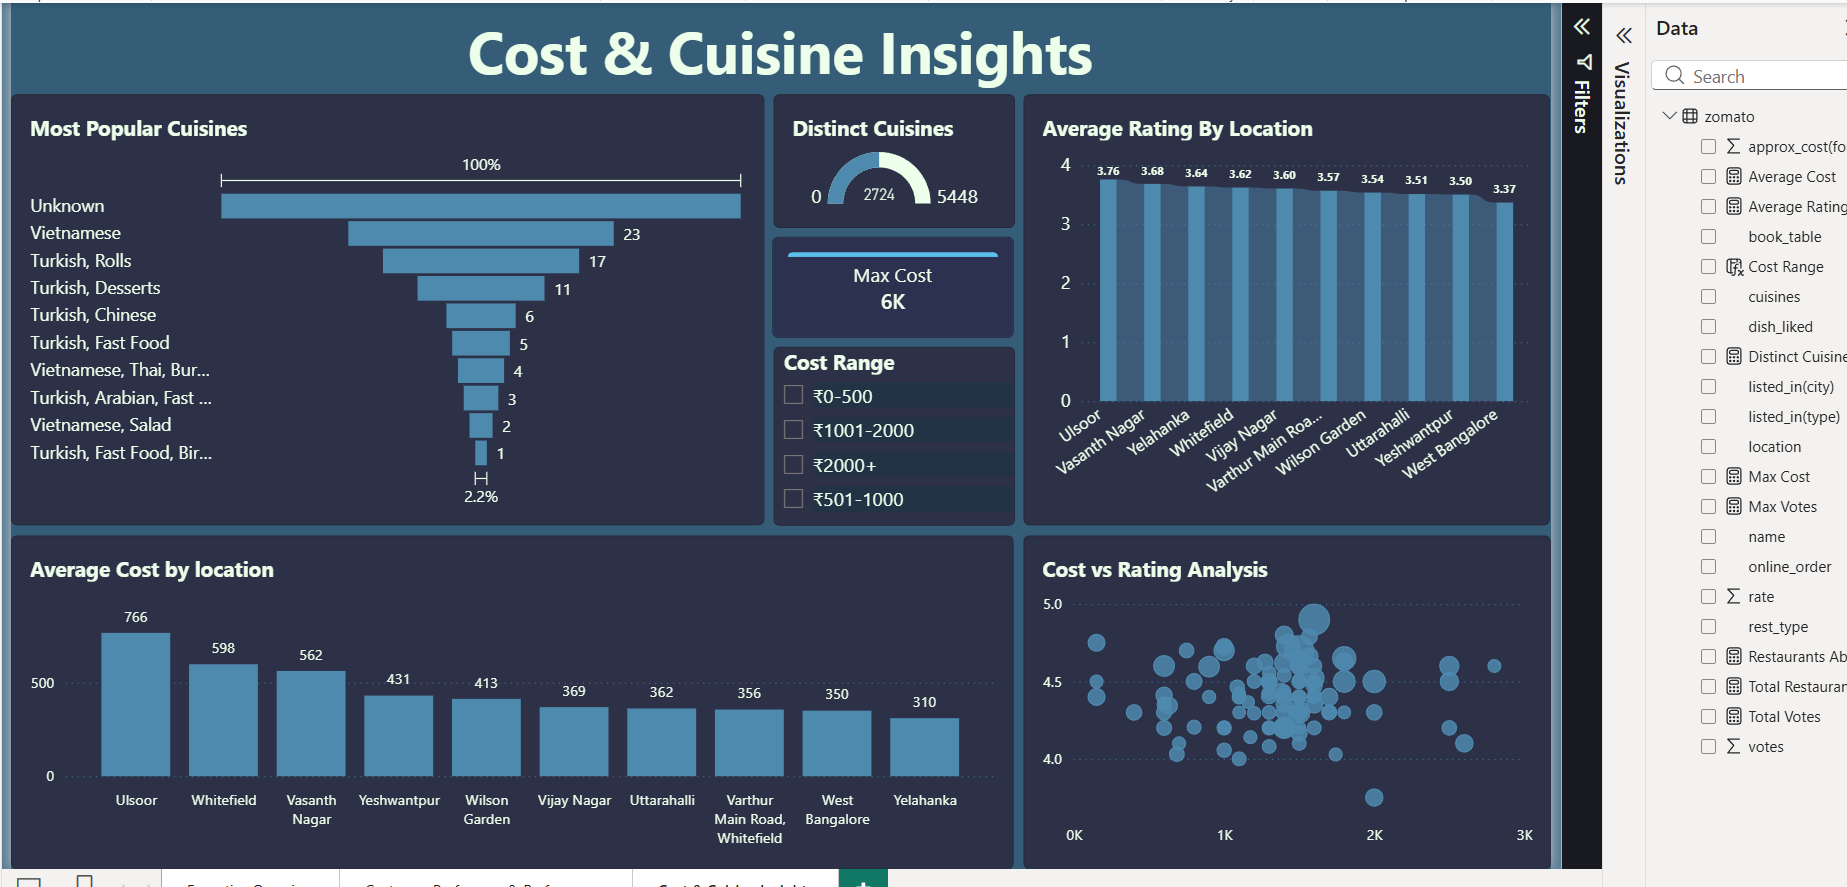

Layout of this report page (visuals, bound fields, positions):
{"tool":"powerbi","page":{"name":"Cost & Cuisine Insights","canvas":[1280,720],"ordinal":2},"visuals":[{"type":"cardVisual","fields":{"Data":["zomato.Max Cost"]},"box":[632.9,194.3,200.6,84.2],"z":0},{"type":"clusteredColumnChart","fields":{"Y":["zomato.Average Cost"],"Category":["zomato.location"]},"box":[0,442.7,833.5,277.5],"z":1000},{"type":"funnel","title":"Most Popular Cuisines","fields":{"Category":["zomato.cuisines"],"Y":["CountNonNull(zomato.name)"]},"box":[0,75.9,626.7,358.5],"z":2000},{"type":"scatterChart","title":"Cost vs Rating Analysis","fields":{"X":["Avg(zomato.approx_cost(for two people))"],"Y":["zomato.rate"],"Size":["Avg(zomato.votes)"],"Category":["zomato.name"]},"box":[842.2,442.6,438.4,277.6],"z":3000},{"type":"ribbonChart","title":"Average Rating By Location","fields":{"Category":["zomato.location"],"Y":["Avg(zomato.rate)"]},"box":[841.8,75.9,437.5,358.5],"z":4000},{"type":"slicer","fields":{"Values":["zomato.Cost Range"]},"box":[634,285.8,200.6,148.6],"z":5000},{"type":"gauge","fields":{"Y":["zomato.Distinct Cuisines"]},"box":[634,75.9,200.6,111.2],"z":6000},{"type":"textbox","box":[0,7.3,1279.3,68.6],"z":7000}]}

Visuals, with their boxes on the page's 1280x720 design canvas (x1, y1, x2, y2). These are canvas units, not pixel positions in the 1847x887 screenshot, which may show the page scaled, cropped or inside an application window:
cardVisual - zomato.Max Cost: (633,194,834,278)
clusteredColumnChart - zomato.Average Cost x zomato.location: (0,443,834,720)
"Most Popular Cuisines" funnel: (0,76,627,434)
"Cost vs Rating Analysis" scatterChart: (842,443,1281,720)
"Average Rating By Location" ribbonChart: (842,76,1279,434)
slicer - zomato.Cost Range: (634,286,835,434)
gauge - zomato.Distinct Cuisines: (634,76,835,187)
textbox: (0,7,1279,76)
